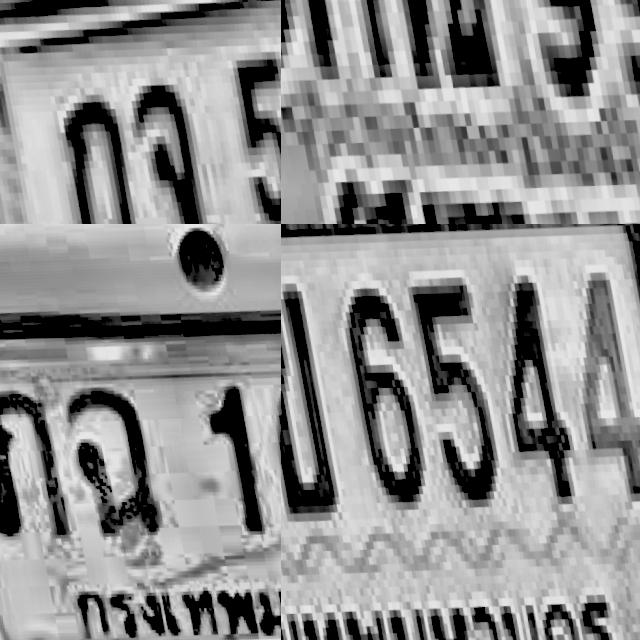license-plate: (281, 224, 640, 640), (0, 263, 281, 640), (281, 0, 640, 224), (0, 0, 281, 224)
